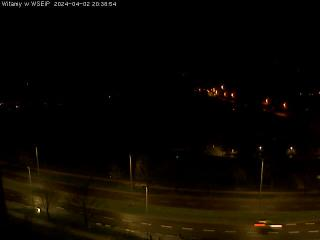car: (254, 218, 282, 234)
